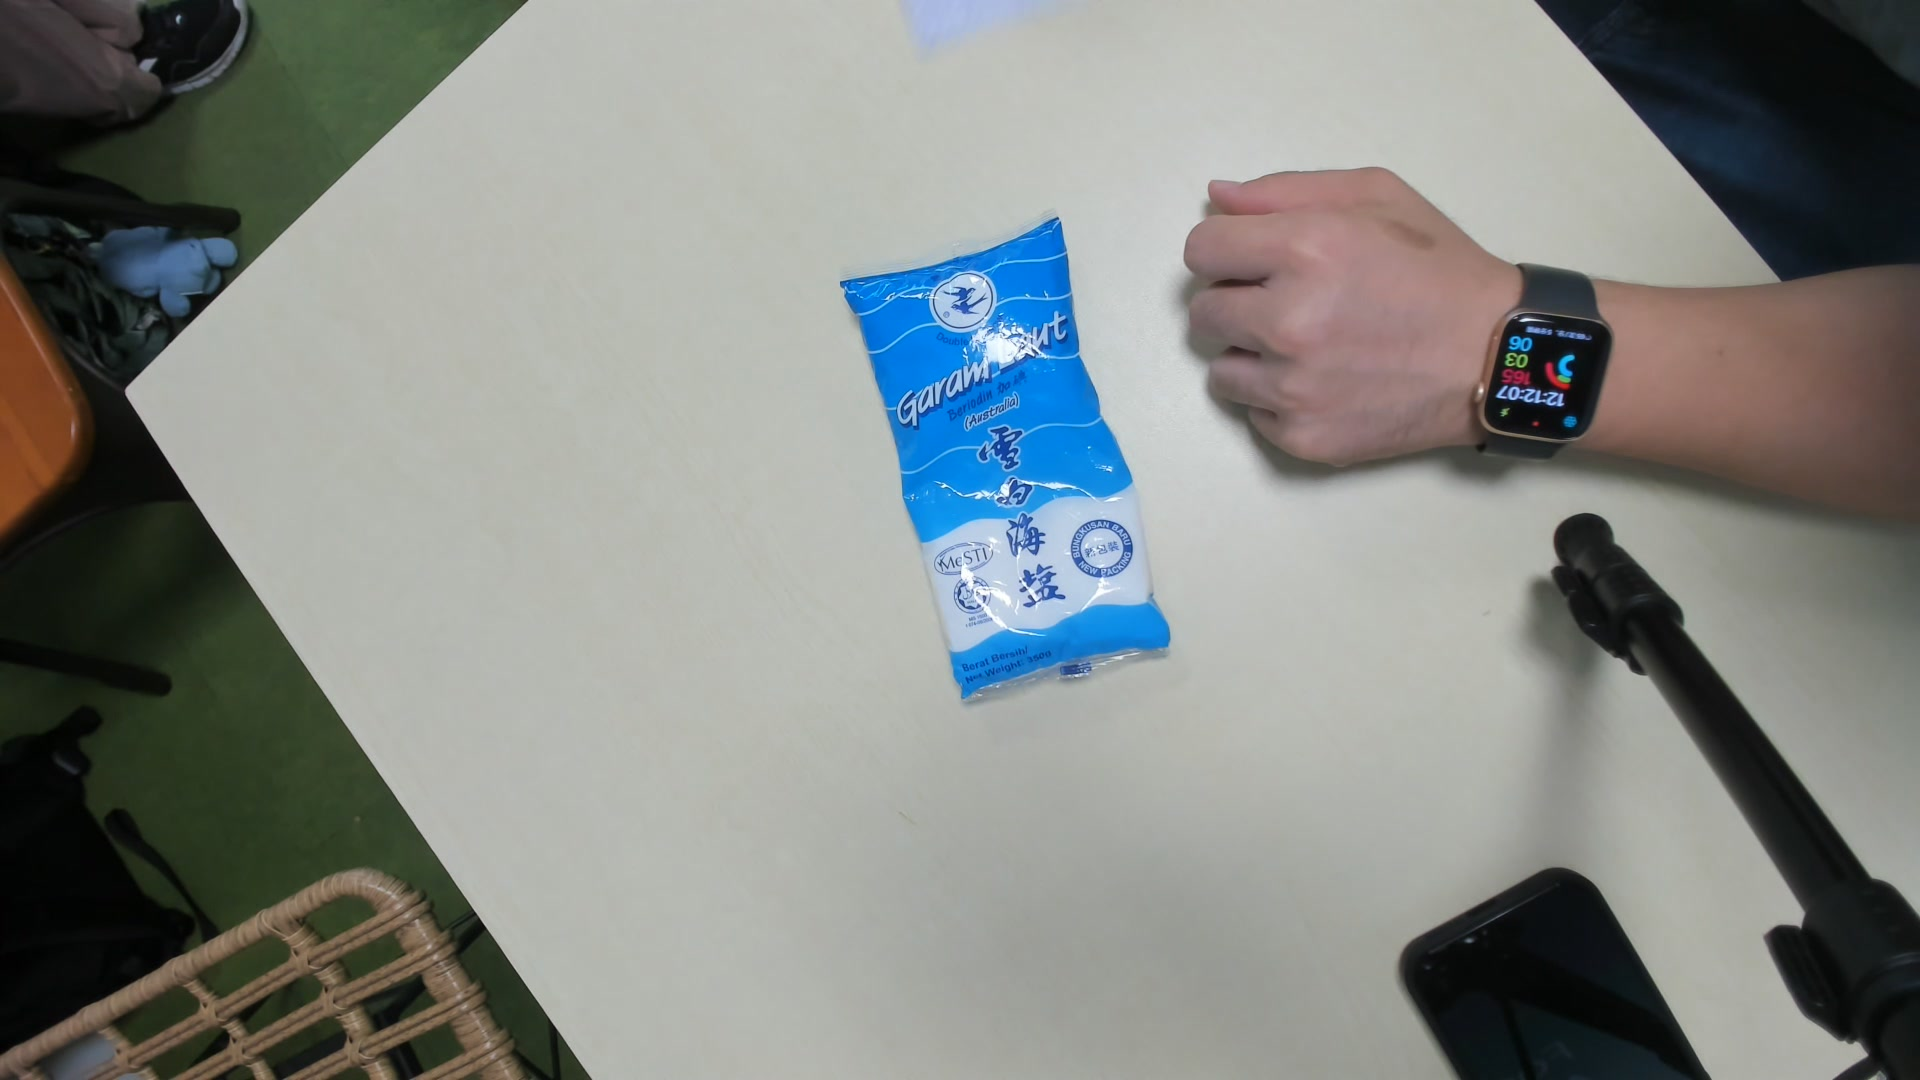Salt_300-399g_NonHalal_NonHealthy: (836, 219, 1174, 695)
